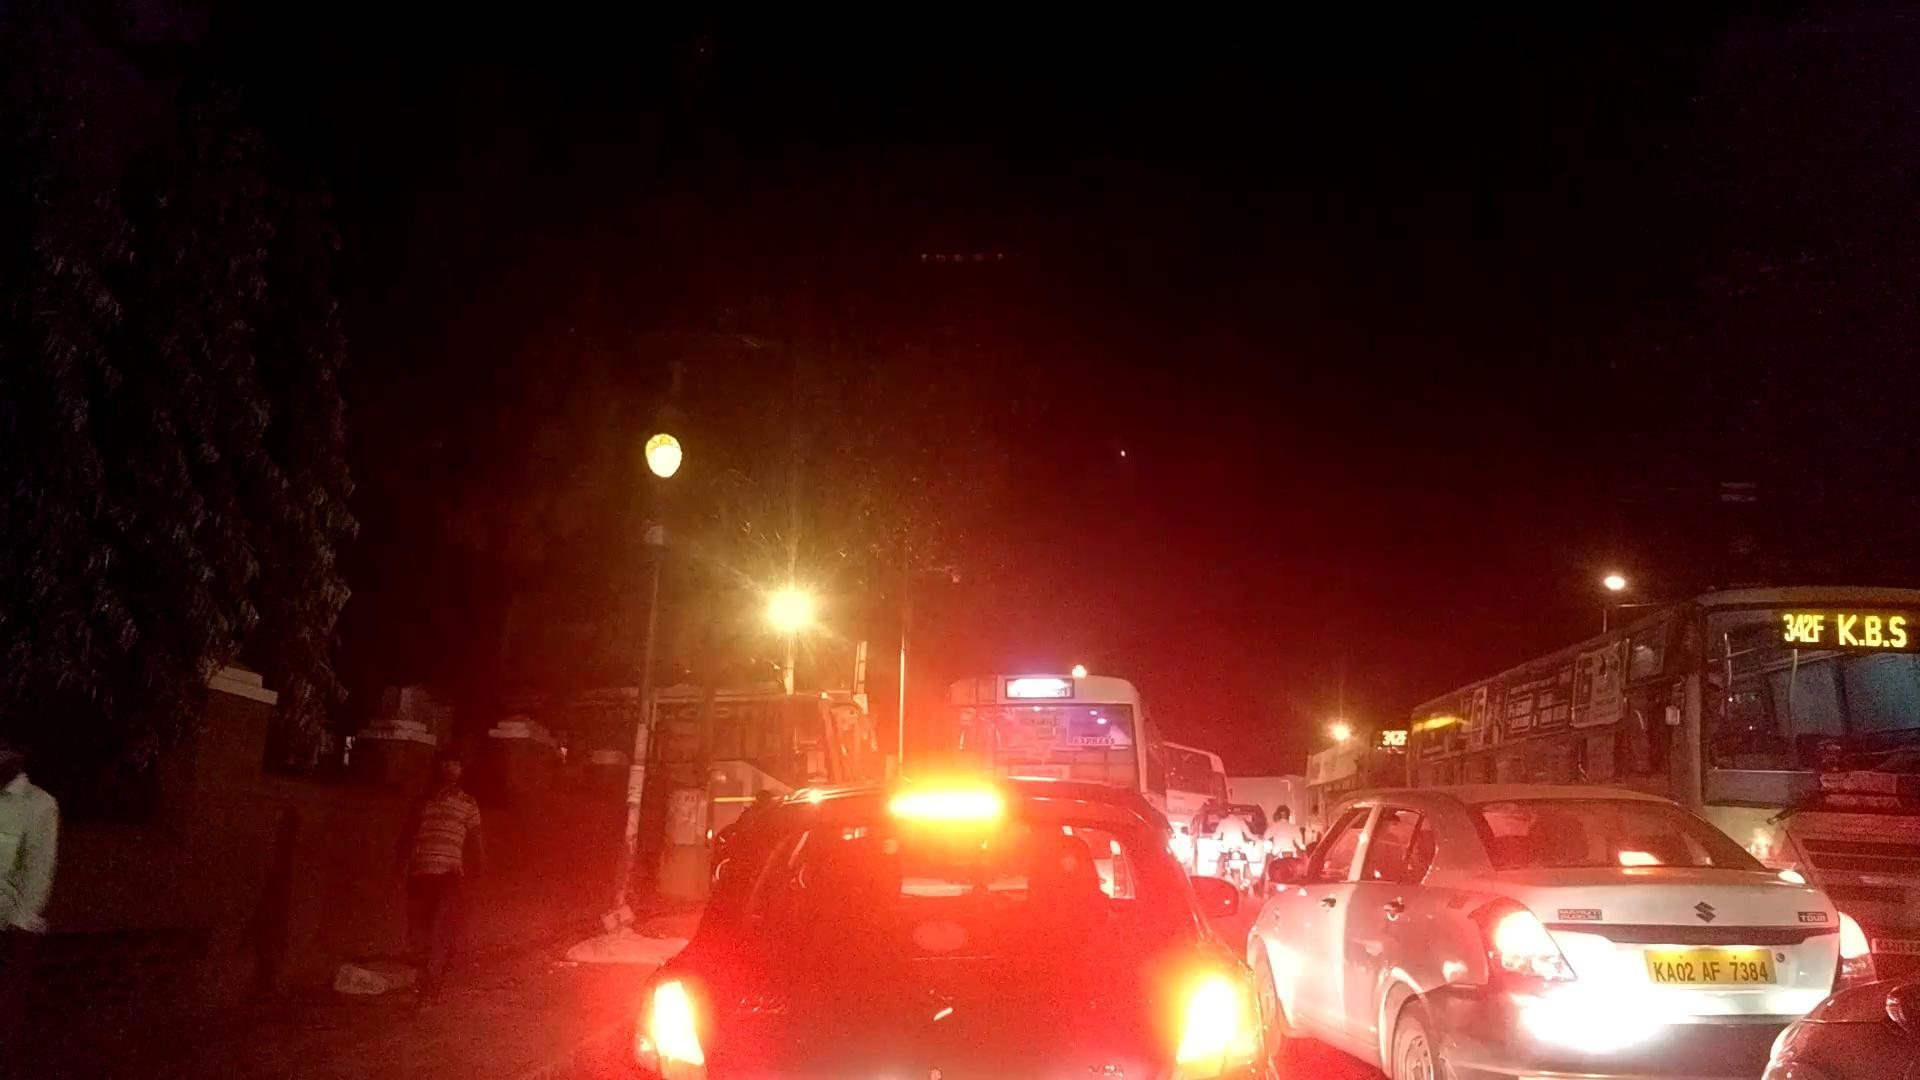on: (650, 332, 967, 884)
